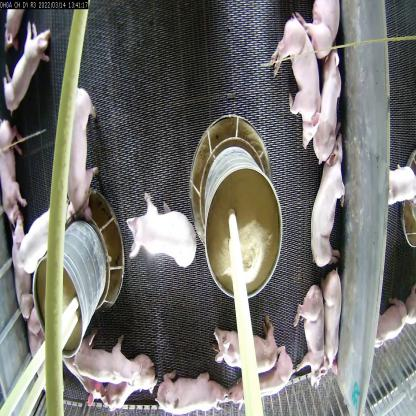Pig: (269, 12, 321, 151), (58, 80, 101, 216), (126, 199, 196, 272), (294, 284, 334, 399), (311, 34, 344, 168), (311, 136, 344, 266), (228, 351, 300, 406), (320, 270, 354, 384), (20, 200, 71, 273), (215, 312, 270, 376), (0, 119, 25, 252), (4, 14, 44, 96), (158, 369, 224, 416), (108, 350, 150, 416), (82, 335, 133, 381), (385, 157, 416, 204)
